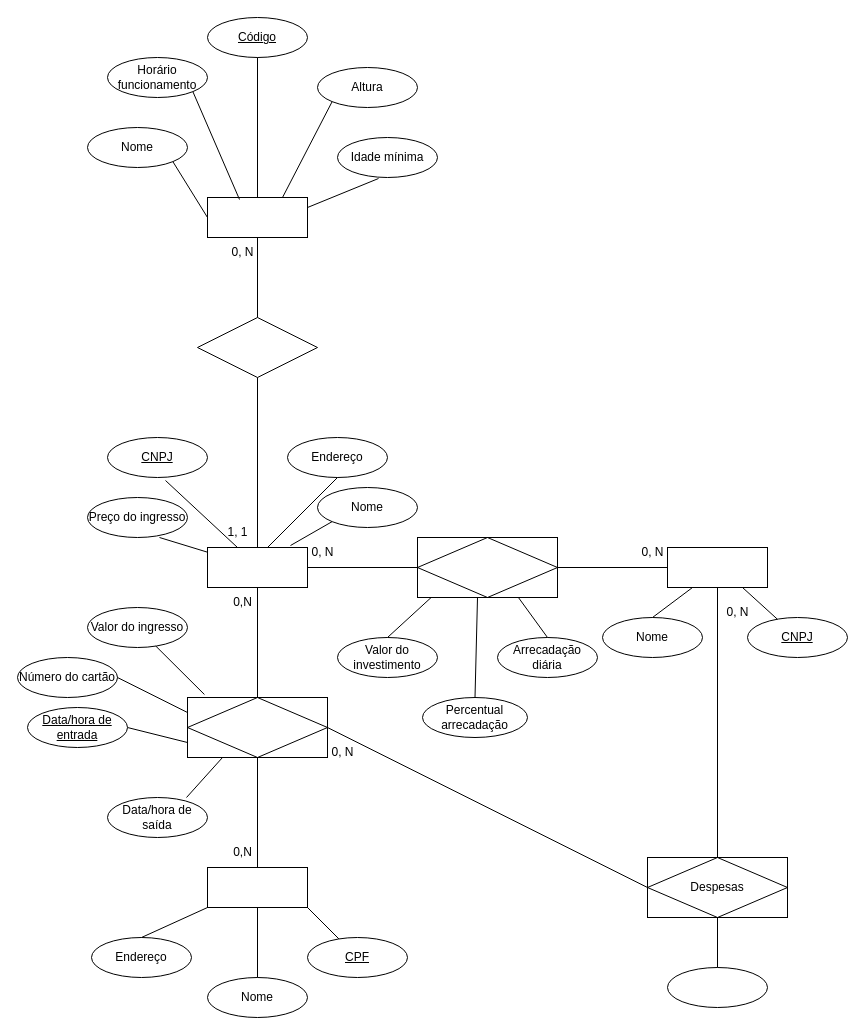
This 865x1035 diagram has some shape labels left out. The box of each missing label's shape, as (x1, y1, x2, y2) in pixels:
Atração: (206, 196, 308, 238)
Parceiro: (666, 546, 768, 588)
Parceria: (416, 536, 558, 598)
Parque de diversão: (206, 546, 308, 588)
Pertence: (196, 316, 318, 378)
Turista: (206, 866, 308, 908)
Valor: (666, 966, 768, 1008)
Visita: (186, 696, 328, 758)
